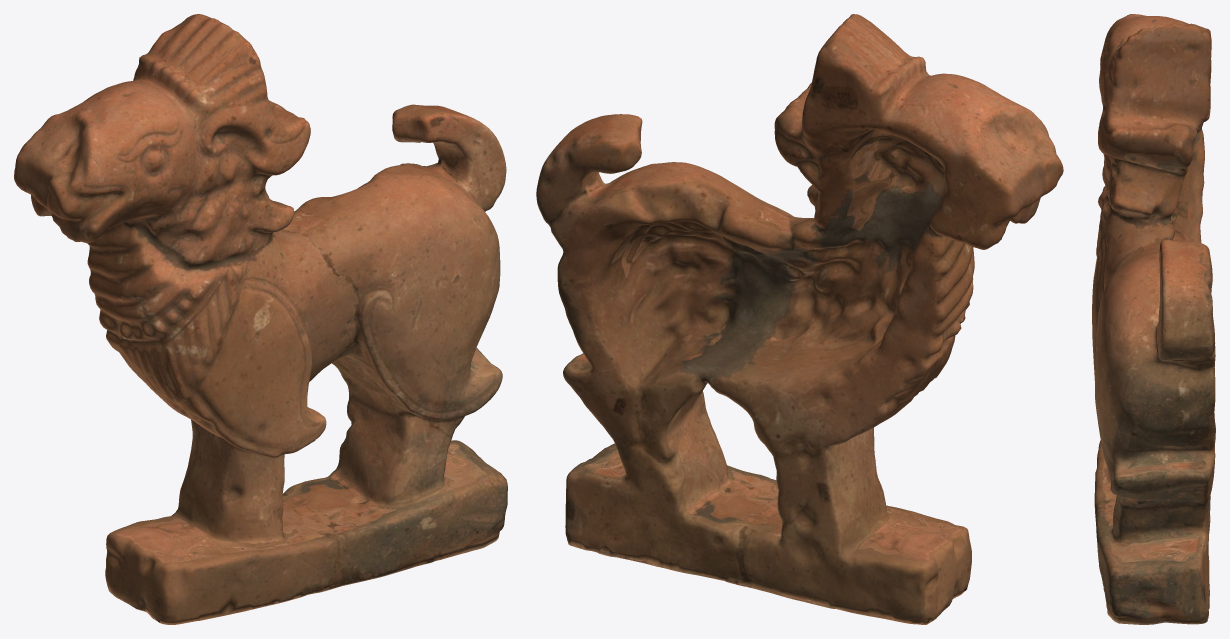
Rendered from MysonMuseum_gajasimha_final.glb.
3 views of the same model, side by side, from view 1: azimuth 30°, elevation 25°; view 2: azimuth 150°, elevation 25°; view 3: azimuth 270°, elevation 25° (orthographic). The views are drawn at different scales.
Bounding box in the file's own units: 0.4351 × 0.4912 × 0.1124.
1 material, 1 textured.
